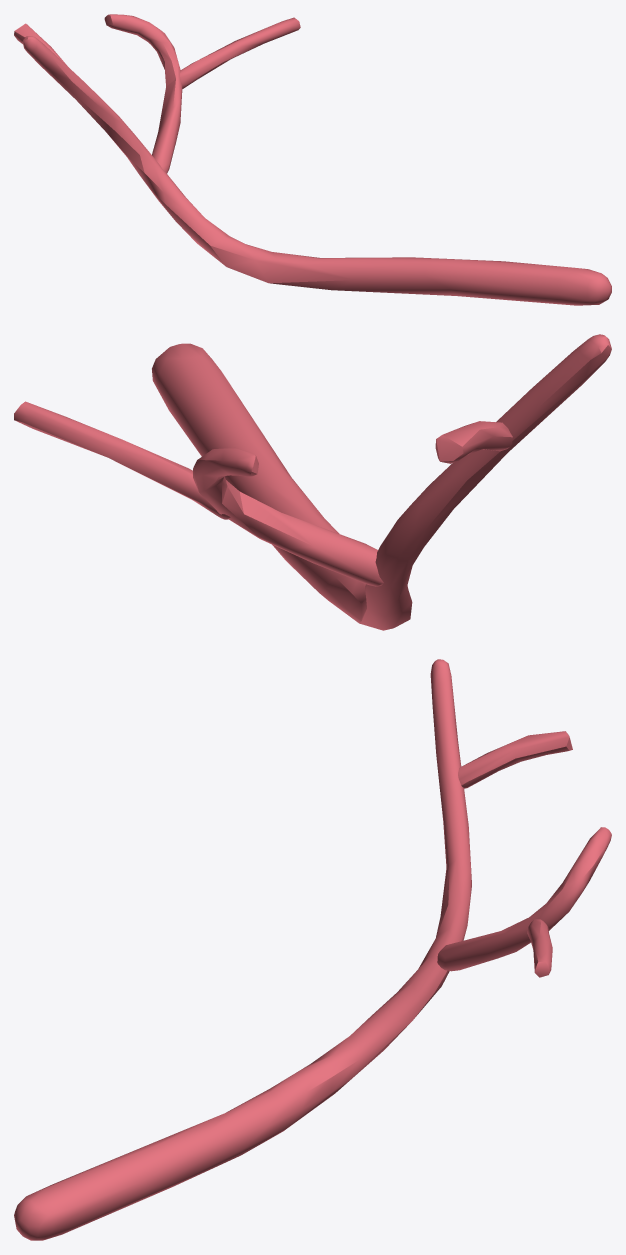
Rendered from fma8670_cx281.glb.
3 views of the same model, one above another, from view 1: azimuth 30°, elevation 25°; view 2: azimuth 150°, elevation 25°; view 3: azimuth 270°, elevation 25° (orthographic). The views are drawn at different scales.
Visible parts, largest first — view 1: FMA8670_CX281; view 2: FMA8670_CX281; view 3: FMA8670_CX281.
Boxes of the visible parts, bbox=[...] form: FMA8670_CX281: bbox=[14, 14, 611, 305]; FMA8670_CX281: bbox=[14, 334, 611, 630]; FMA8670_CX281: bbox=[14, 659, 611, 1240].
Bounding box in the file's own units: 0.0519 × 0.03 × 0.0489.
